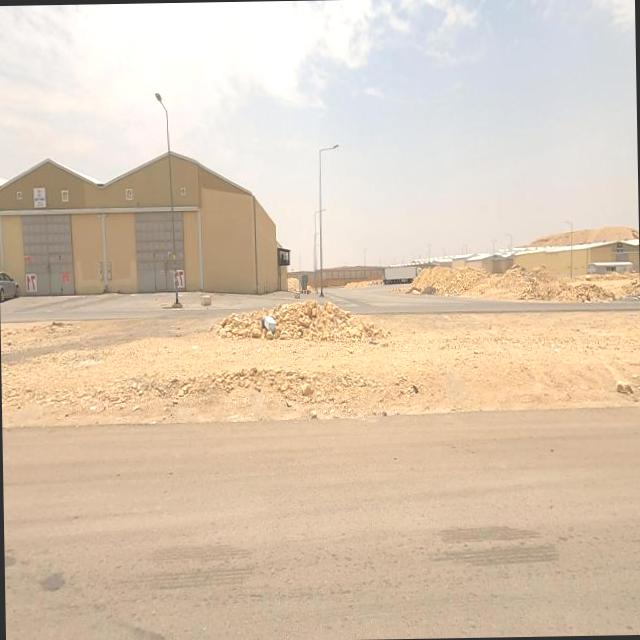debris: (248, 278, 294, 359)
